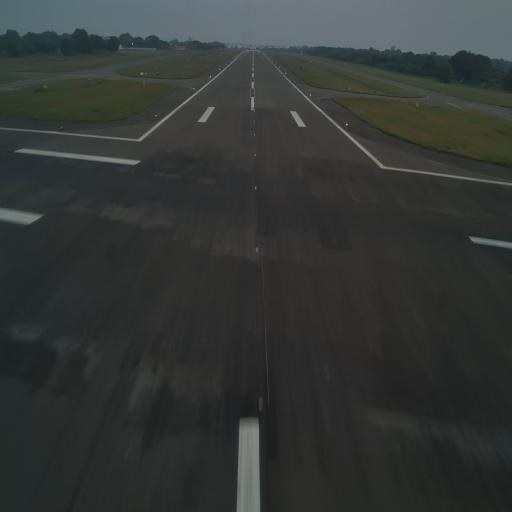on: (256, 394, 265, 412), (254, 245, 260, 258), (252, 152, 258, 160), (254, 184, 258, 194), (345, 120, 349, 129), (154, 112, 158, 120), (253, 119, 257, 124), (254, 131, 256, 138)
